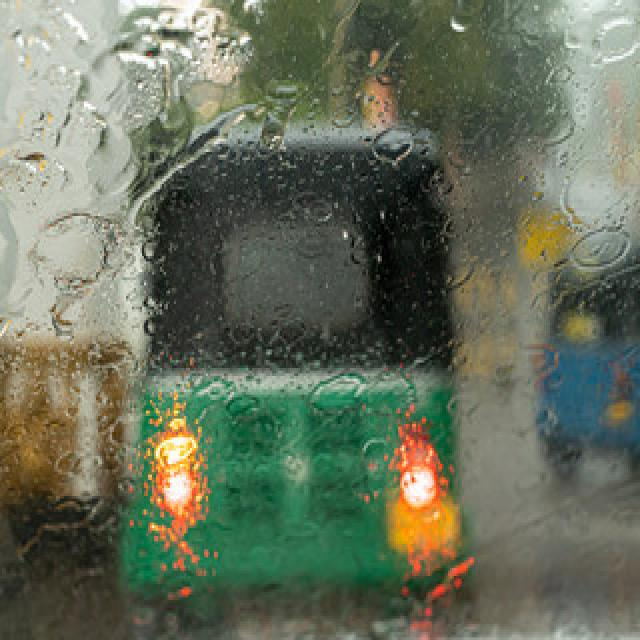three wheeler: (122, 107, 468, 600), (532, 235, 638, 464)
